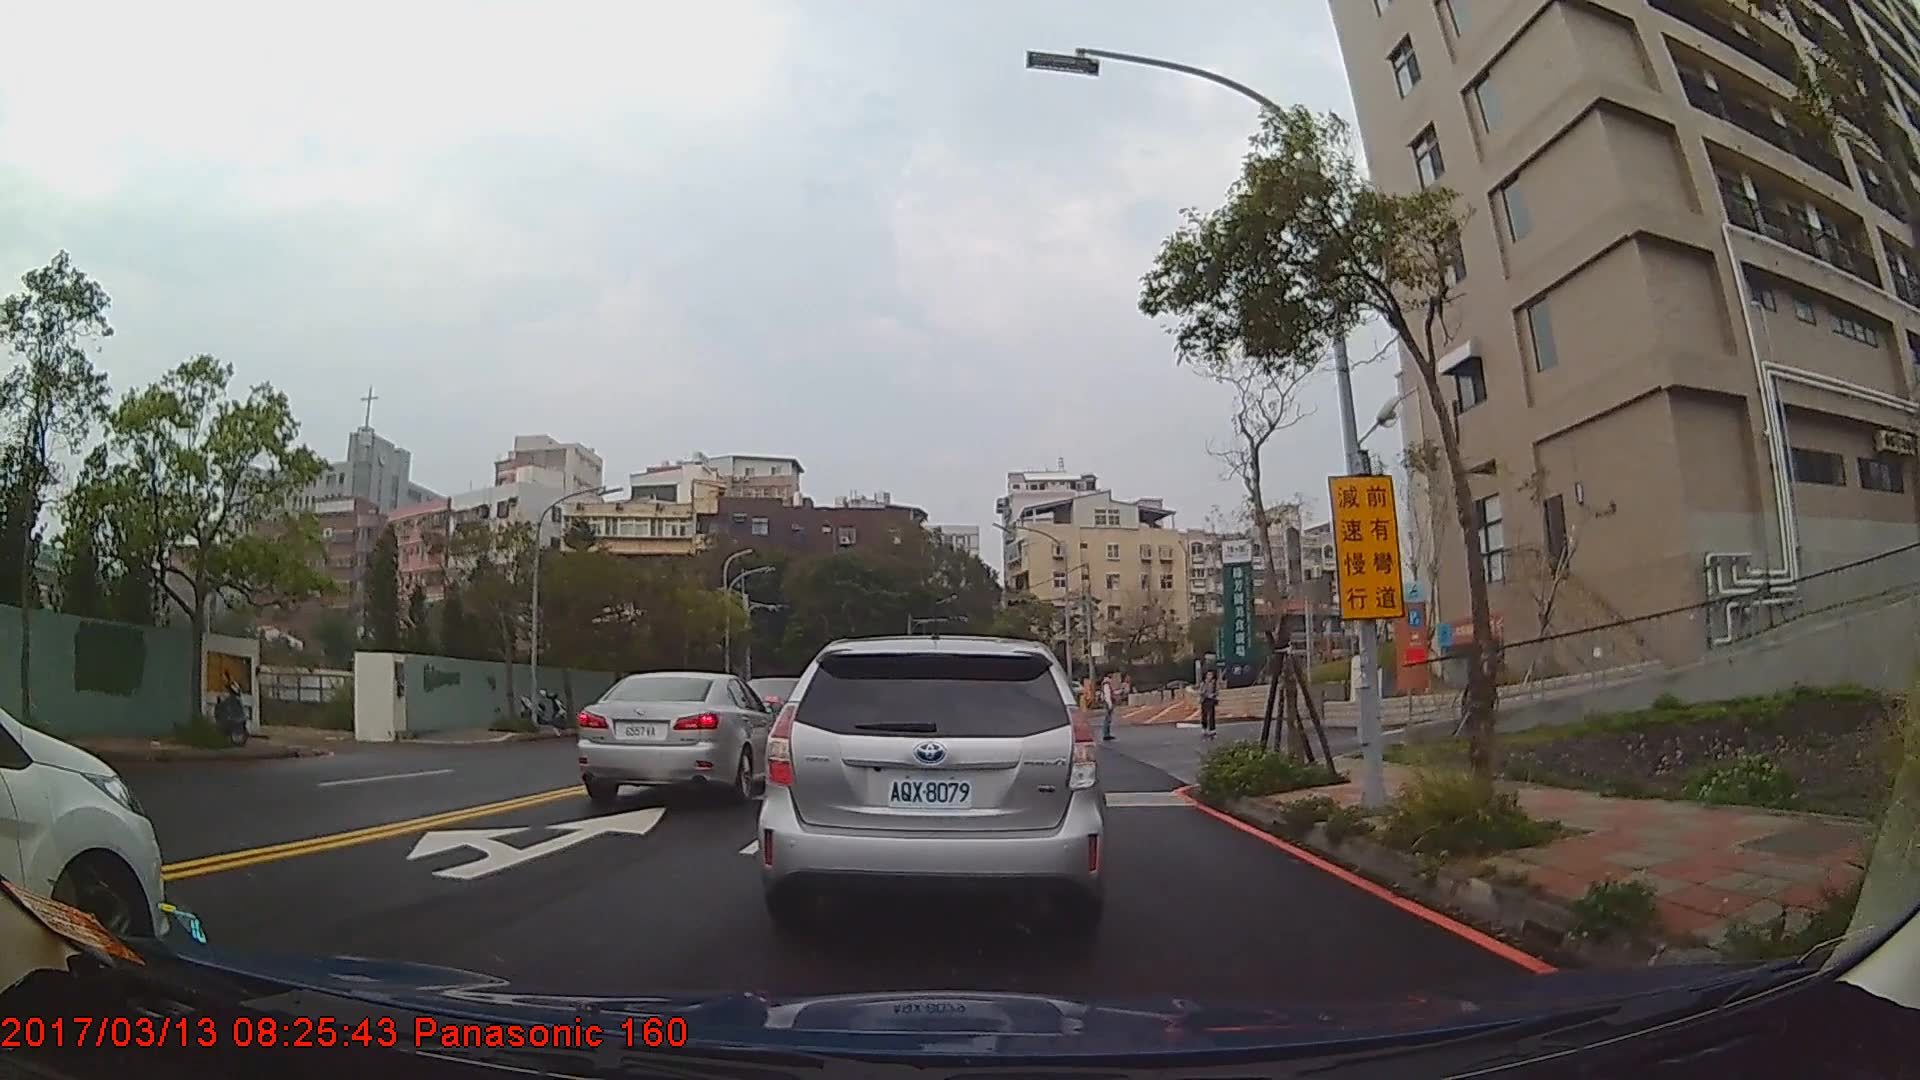pedestrian: (1098, 667, 1123, 743), (1199, 672, 1219, 736)
vehicle: (756, 635, 1109, 929), (0, 699, 168, 969), (574, 670, 787, 801)
